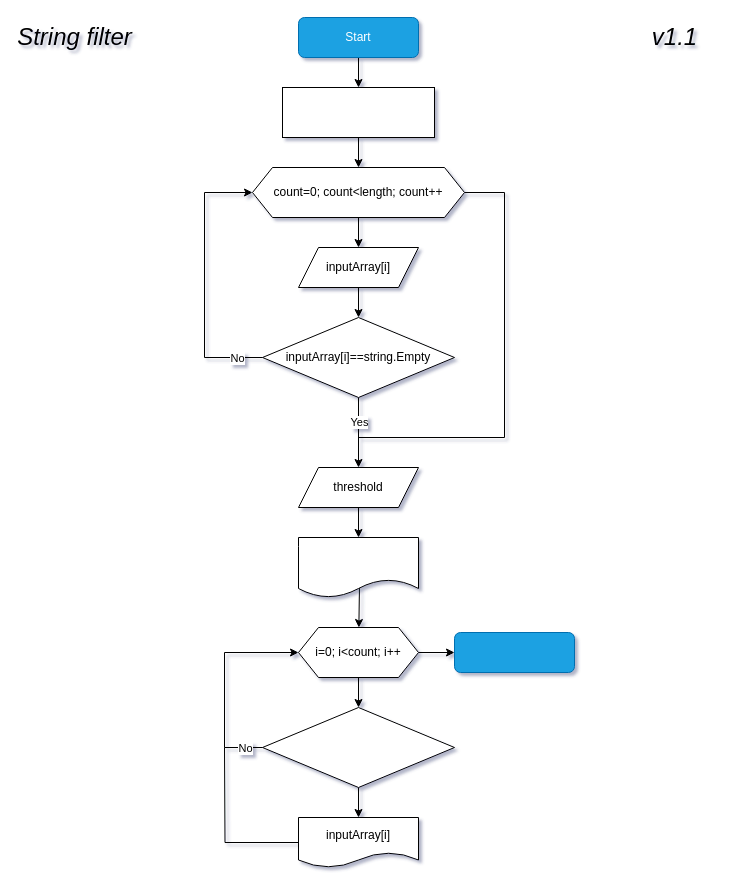
This 748x891 diagram has some shape labels left out. Each missing label, with the centre of its shape:
Exit: [514,652]
inputArray: [358,567]
inputArray[i].Length<= <=threshold: [358,747]
length=100; string inputArray[length]: [358,112]
